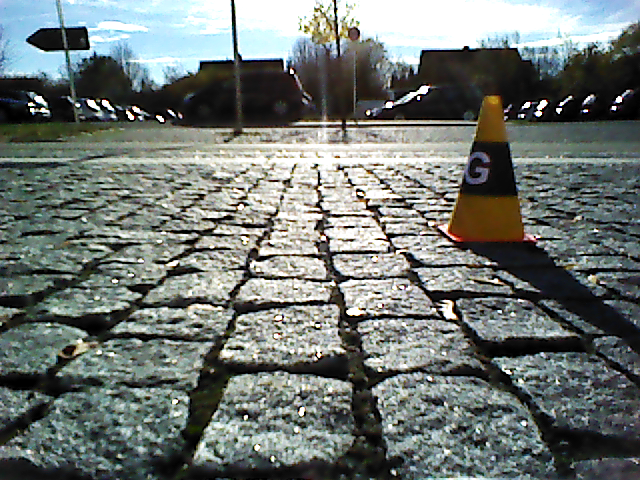yellowcone: (449, 96, 524, 238)
